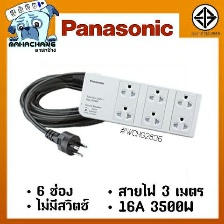three_eye_plug: (75, 67, 203, 139)
